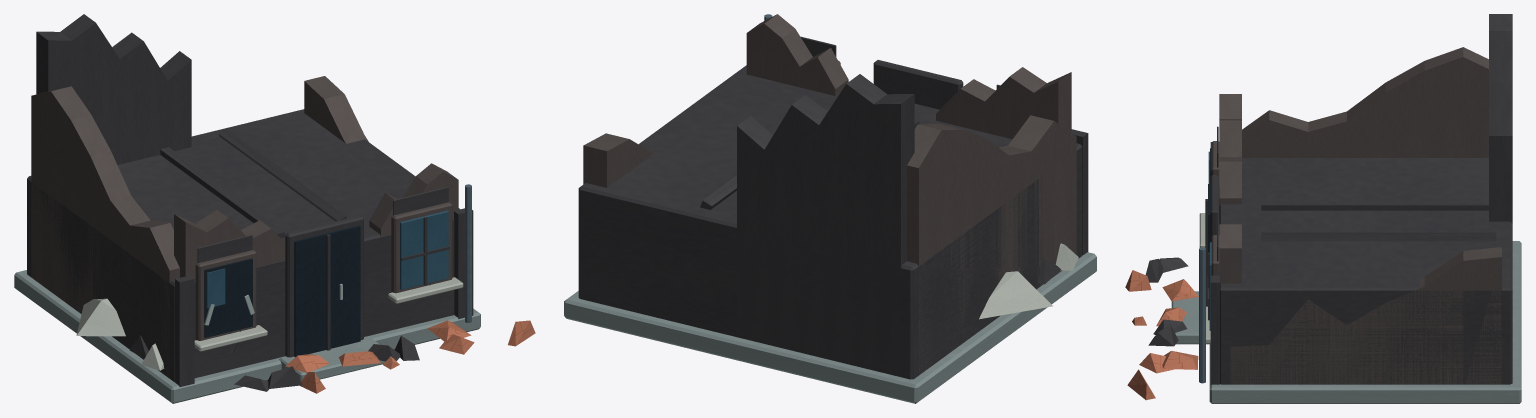
Rendered from row-house-ruined.glb.
3 views of the same model, side by side, from view 1: azimuth 30°, elevation 25°; view 2: azimuth 150°, elevation 25°; view 3: azimuth 270°, elevation 25° (orthographic). The views are drawn at different scales.
Visible parts, largest first — view 1: row-house-ruined; view 2: row-house-ruined; view 3: row-house-ruined.
Part boxes in pixels (left/top/right/bottom): row-house-ruined: left=14, top=14, right=535, bottom=403; row-house-ruined: left=564, top=14, right=1096, bottom=403; row-house-ruined: left=1125, top=14, right=1521, bottom=403.
Bounding box in the file's own units: 6.24 × 4.35 × 6.07.
3 materials, 3 textured.
